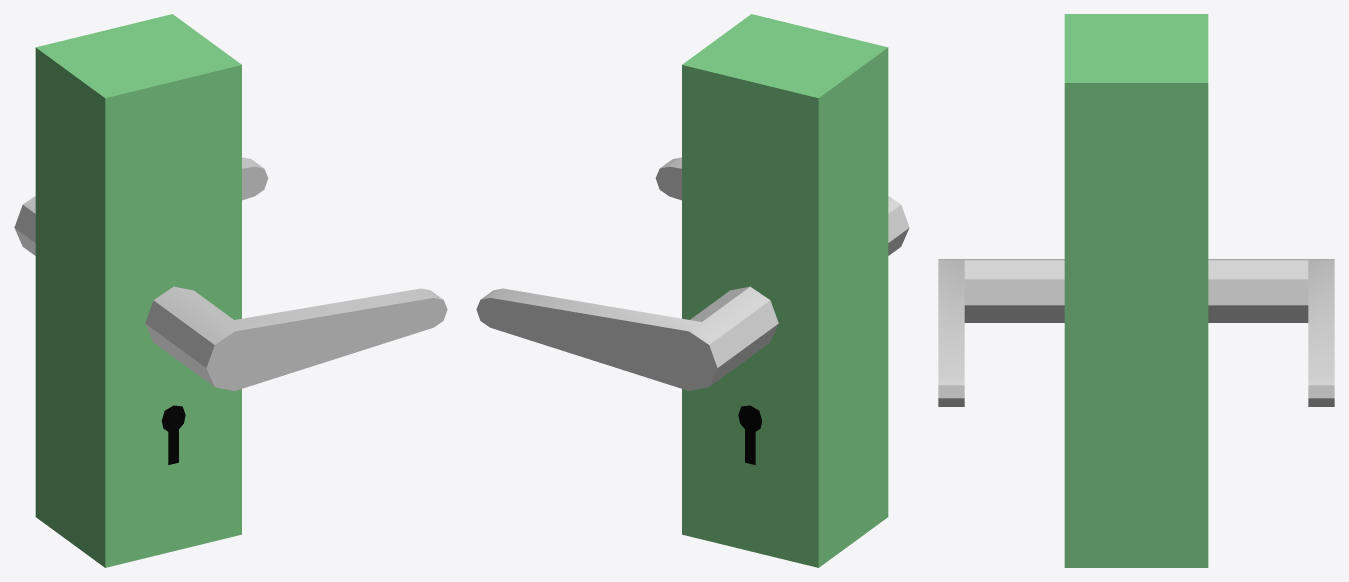
Rendered from dvereHandle.fbx.
3 views of the same model, side by side, from view 1: azimuth 30°, elevation 25°; view 2: azimuth 150°, elevation 25°; view 3: azimuth 270°, elevation 25° (orthographic). The views are drawn at different scales.
Parts seen in each view (by area): view 1: Dvere.Zamek.Base, Dvere.Zamek.Klika; view 2: Dvere.Zamek.Base, Dvere.Zamek.Klika; view 3: Dvere.Zamek.Base, Dvere.Zamek.Klika.
Boxes of the visible parts, x1,y1,x2,y2 form: Dvere.Zamek.Base: [35, 14, 241, 567]; Dvere.Zamek.Klika: [14, 157, 447, 390]; Dvere.Zamek.Base: [682, 14, 888, 567]; Dvere.Zamek.Klika: [476, 157, 909, 390]; Dvere.Zamek.Base: [1064, 14, 1208, 567]; Dvere.Zamek.Klika: [938, 259, 1334, 406].
Bounding box in the file's own units: 14.79 × 23.62 × 17.5.
